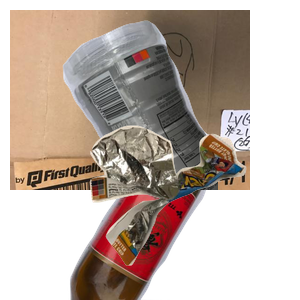cardboard: (10, 10, 250, 190)
glass: (67, 120, 282, 300)
plastic: (60, 18, 300, 198)
trash: (88, 123, 300, 300)
